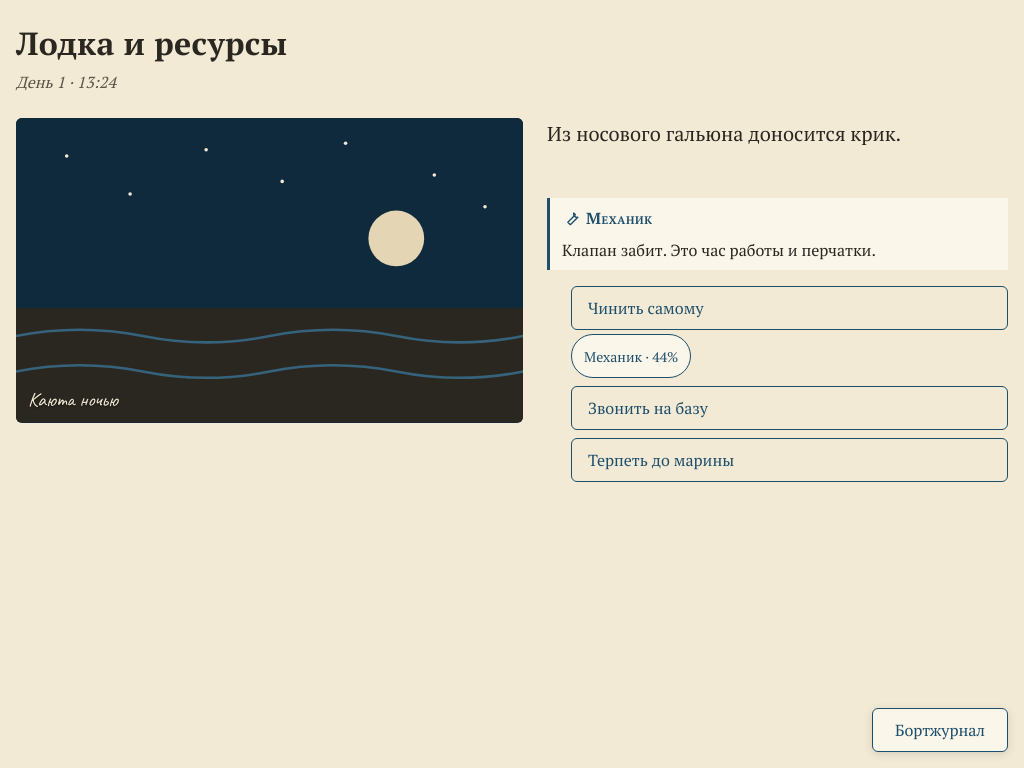
Test case: EventScreen › shows each check as a badge with the engine odds and a breakdown on tap
Click the button "Механик · 44%": (631, 356) [571,334,691,378]
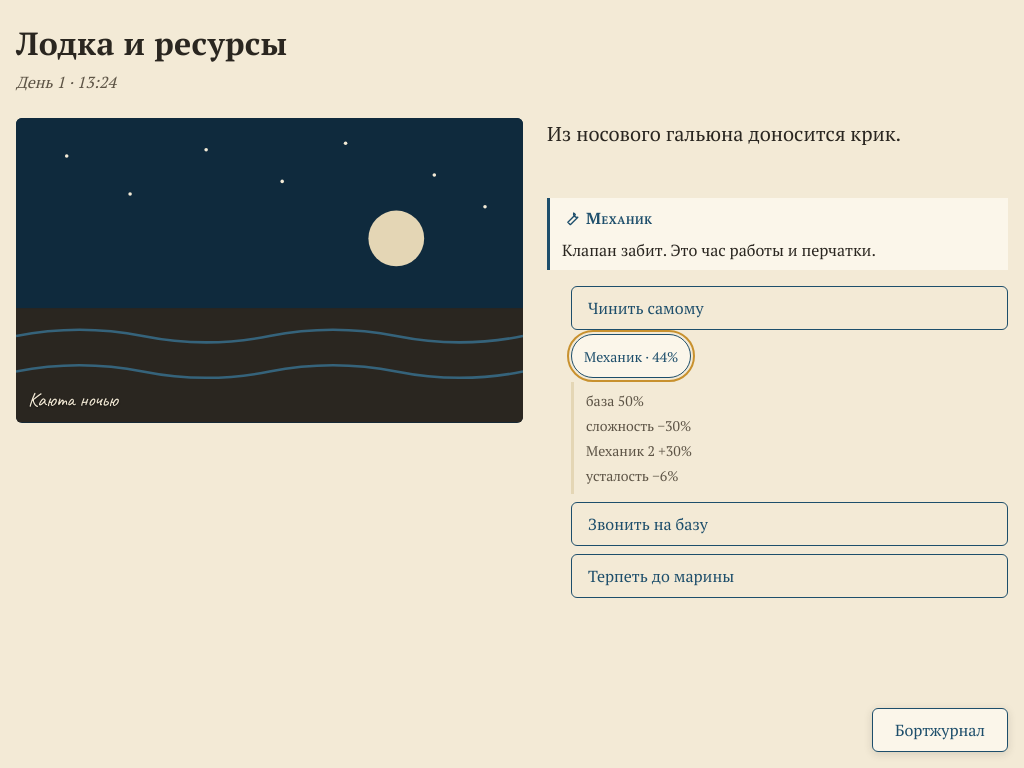
Check: the button "Механик · 44%" is expanded, box [571,334,691,378]
Check: the list item "база 50%" is shown, box [586,391,644,410]
